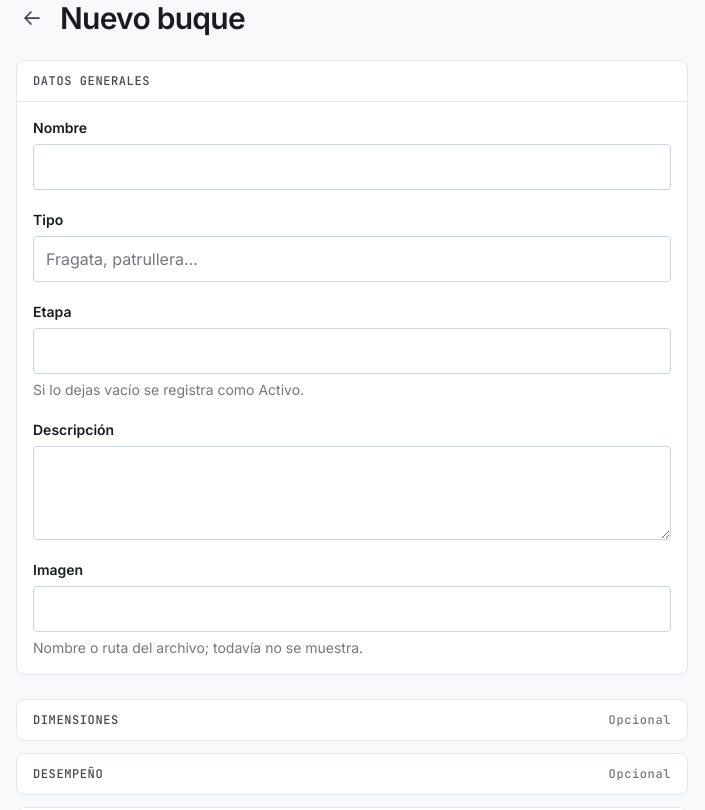
Test: NuevoBuquePage › disables the submit button while the request is in flight
Step 1. Type "  ARC Caribe " into the field labelled "Nombre" → (352, 167), box [33, 144, 671, 190]
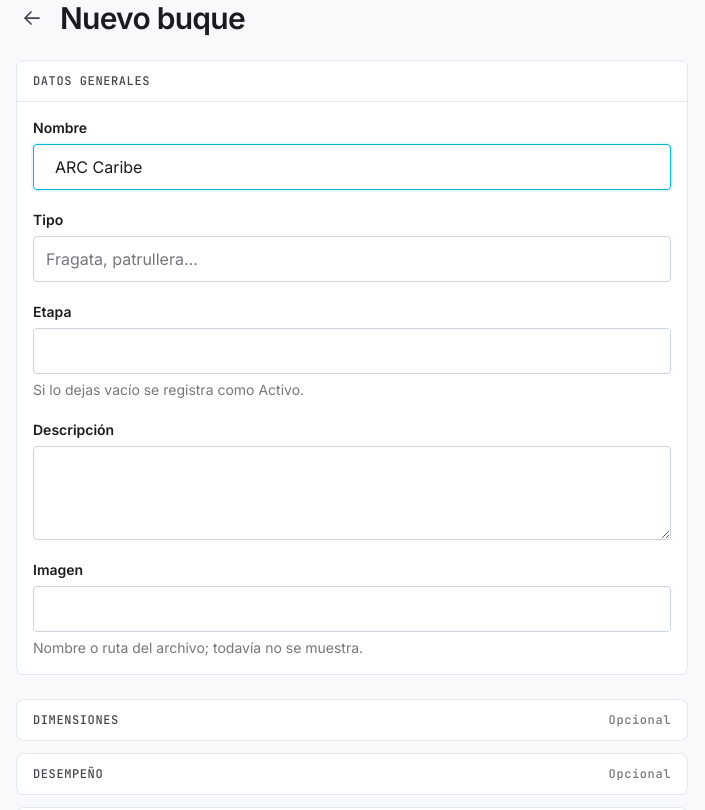
Step 2. Type "Fragata" into the field labelled "Tipo" → (352, 259), box [33, 236, 671, 282]
(page scrolled)
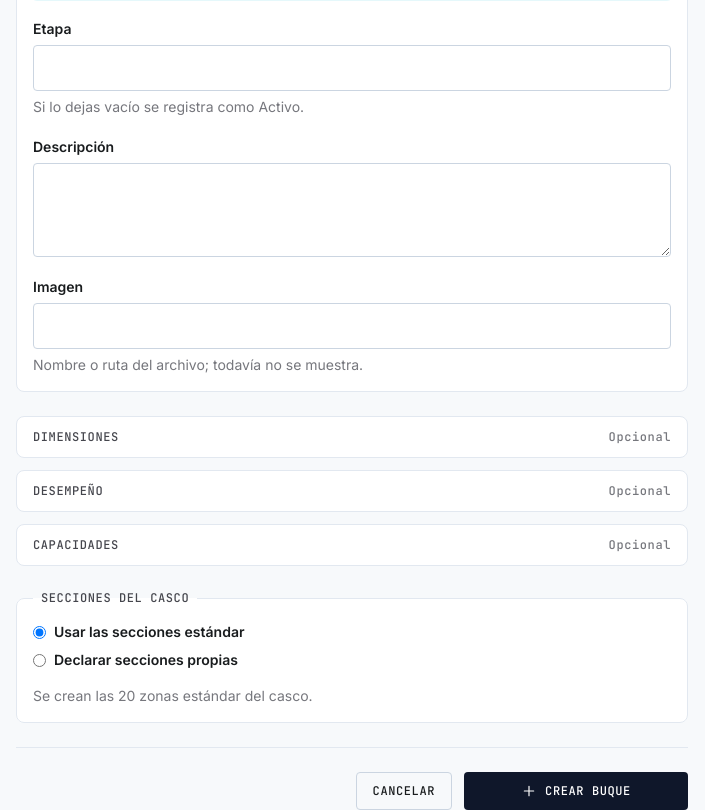
Step 3. Click the button "Crear buque" → (576, 791), box [464, 772, 688, 809]
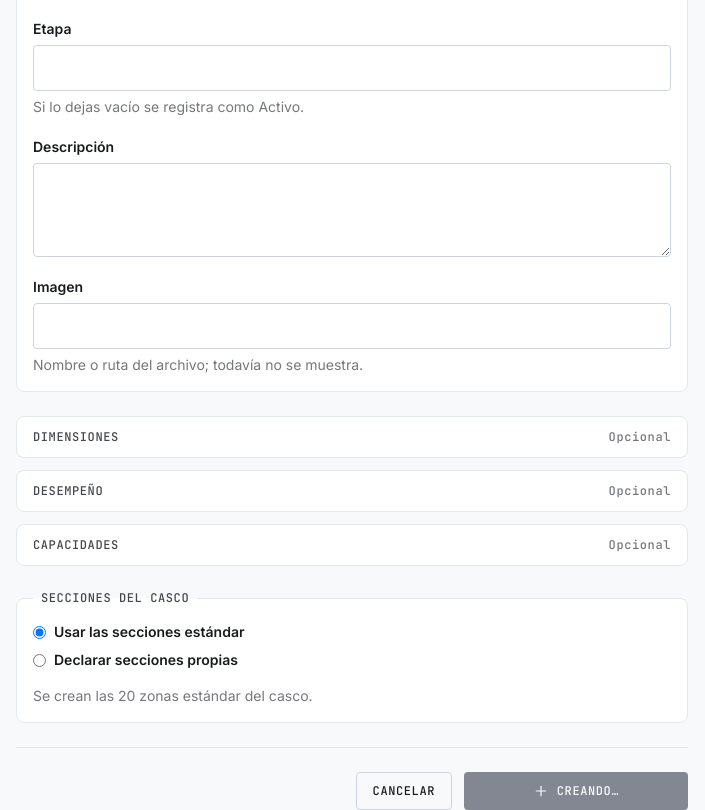
Now the button "Creando…" is disabled, box [464, 772, 688, 809]
